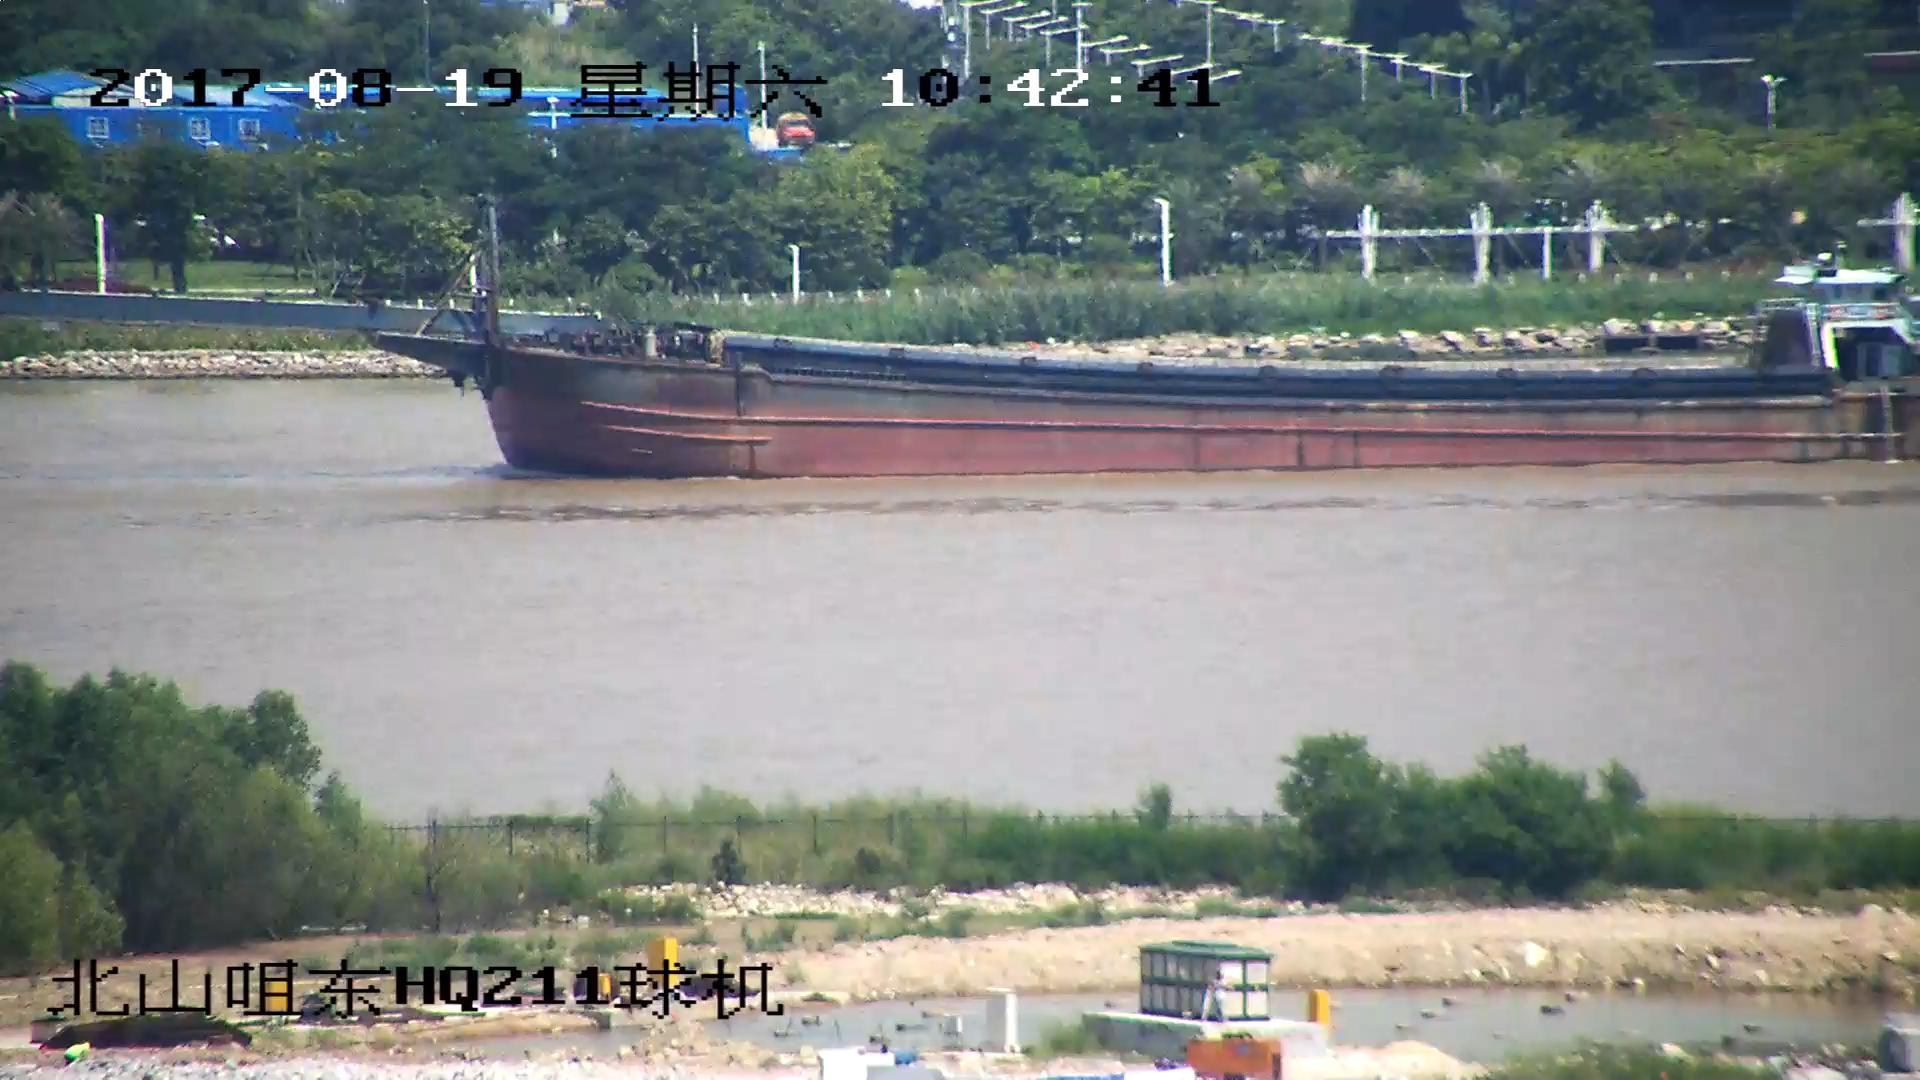Ship: (3, 206, 1920, 480)
